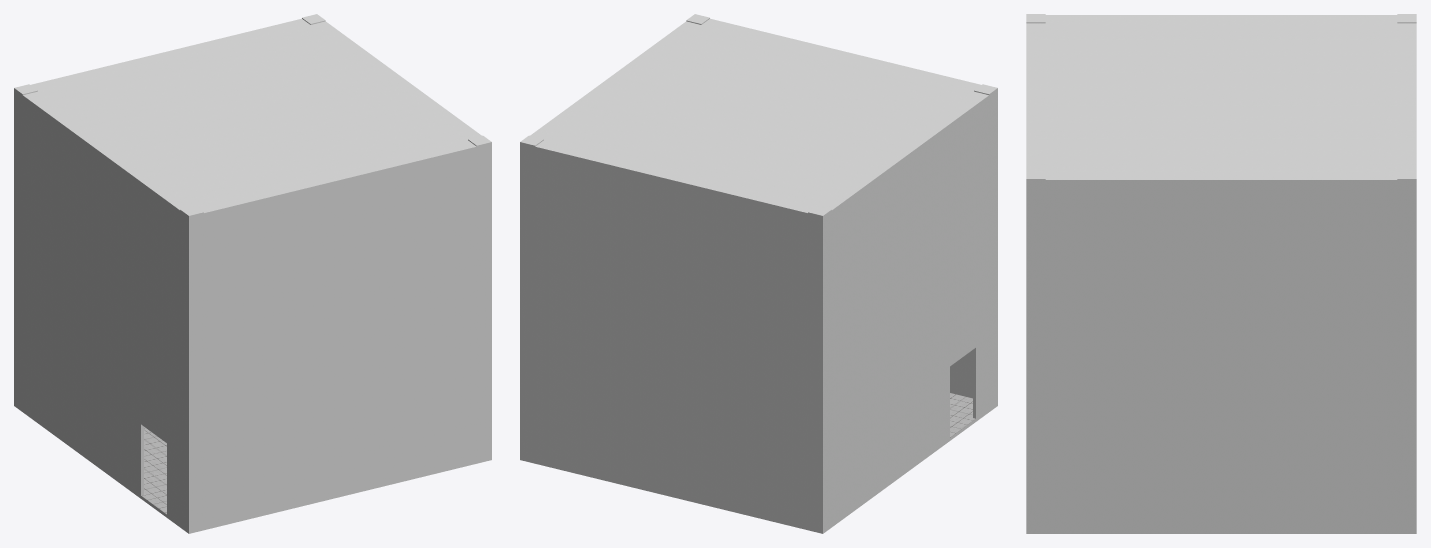
The model's file is QuestionRoom.fbx.
3 renders of one model, left to right at view 1: azimuth 30°, elevation 25°; view 2: azimuth 150°, elevation 25°; view 3: azimuth 270°, elevation 25°, orthographic. The views are drawn at different scales.
Parts seen in each view (by area): view 1: node_id9 (×2); view 2: node_id9 (×2); view 3: node_id9.
Boxes of the visible parts, x1,y1,x2,y2 form: node_id9 (×2): (14, 14, 491, 533); node_id9 (×2): (520, 14, 997, 533); node_id9: (1026, 14, 1416, 533).
Size of the model in its own units: 0.5105 by 0.512 by 0.5105.
Materials: 4 (3 with a texture image).
